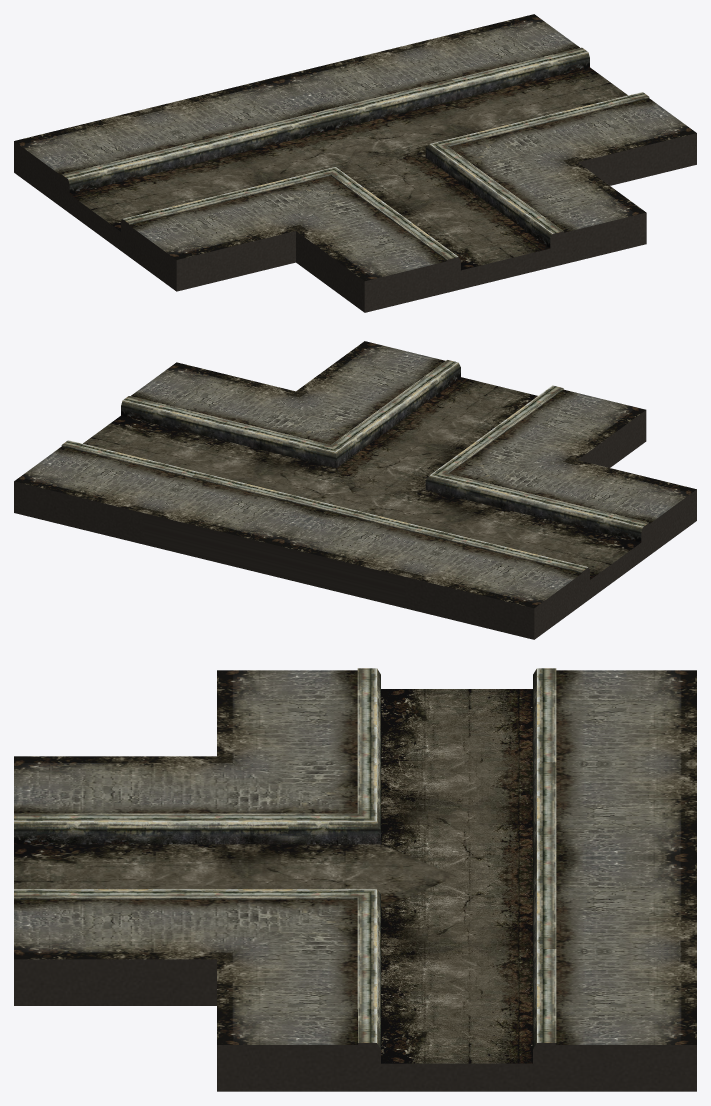
The model's file is floor T way.FBX.
3 views of the same model, one above another, from view 1: azimuth 30°, elevation 25°; view 2: azimuth 150°, elevation 25°; view 3: azimuth 270°, elevation 25° (orthographic). The views are drawn at different scales.
Parts seen in each view (by area): view 1: T way; view 2: T way; view 3: T way.
Part boxes in pixels (x1,y1,x2,y2): T way: (14,14,696,312); T way: (14,341,696,639); T way: (14,668,696,1091).
Size of the model in its own units: 3155 by 192 by 2431.
